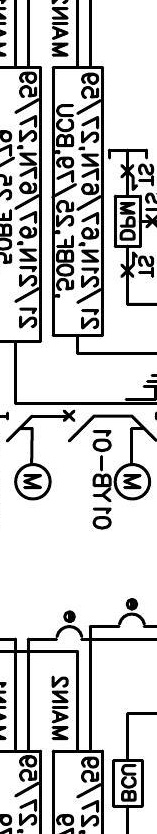115_1way_ds_w_motor: (5, 411, 52, 501)
115_breaker: (63, 409, 95, 443)
BCU: (111, 758, 145, 809)
DPM: (114, 195, 142, 249)
